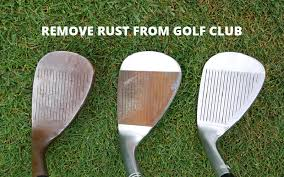rust: (120, 71, 156, 125), (32, 131, 48, 176)
